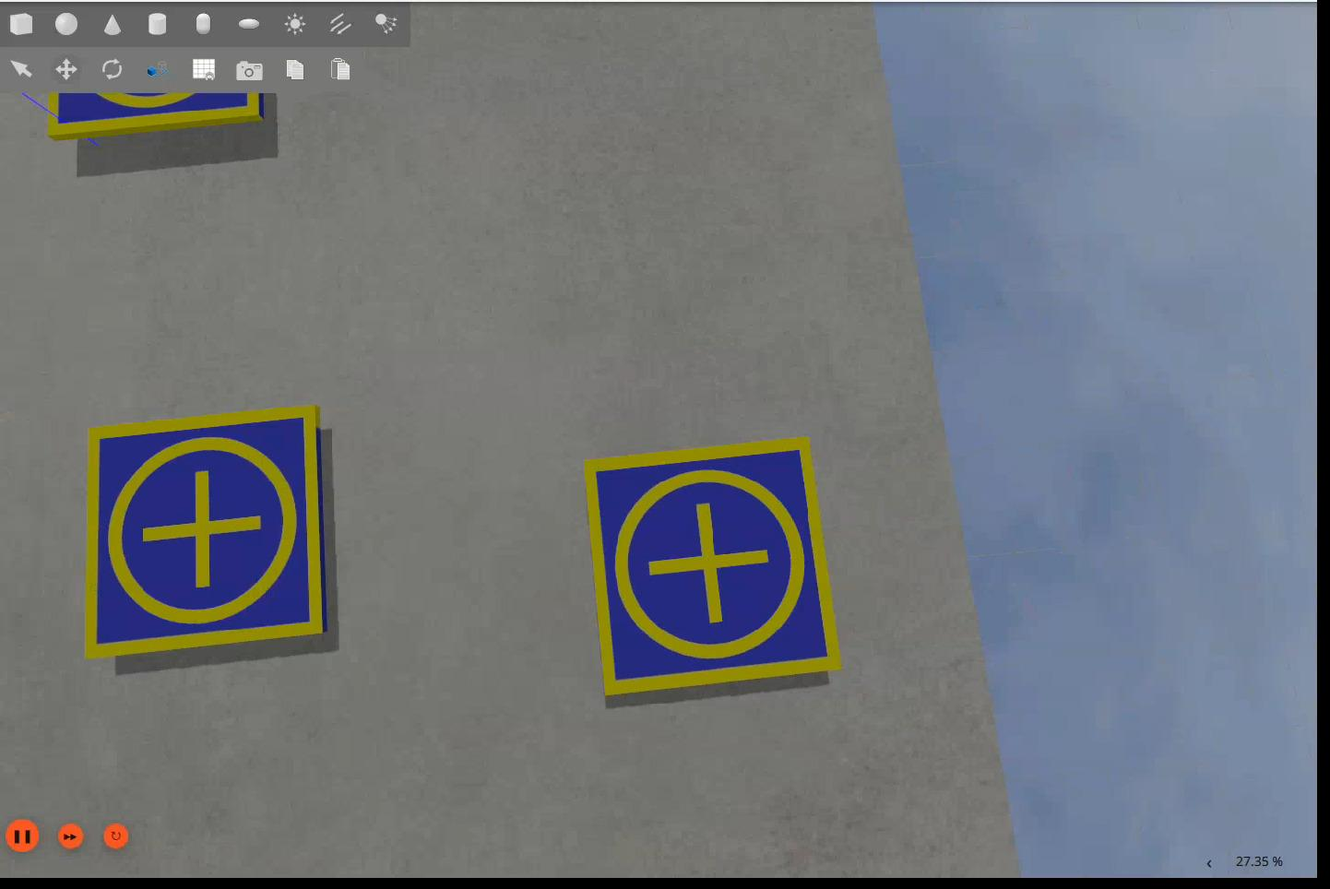small_base: (587, 439, 844, 696), (89, 407, 327, 660), (48, 91, 268, 138)
